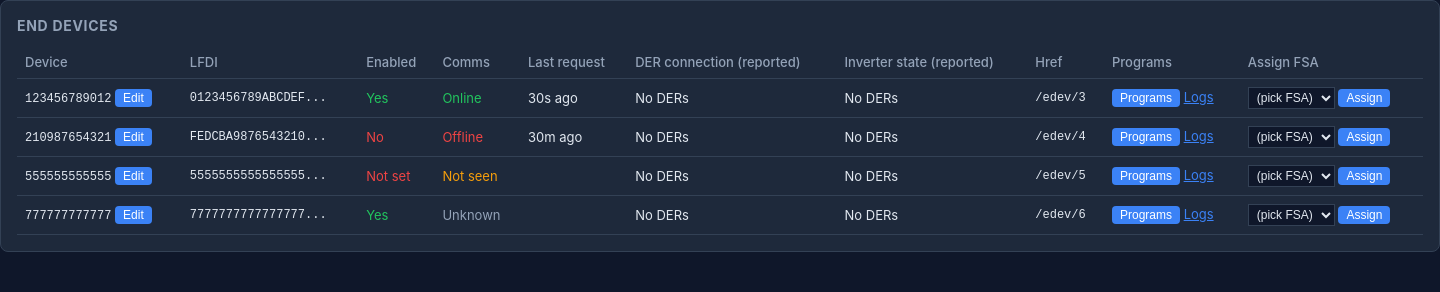
DeviceTable › surfaces an assignment failure instead of silently doing nothing
Select "fsa-a" in the dropdown with id "assignSel-3" at [1291, 98], box x1=1248 y1=87 x2=1335 y2=109
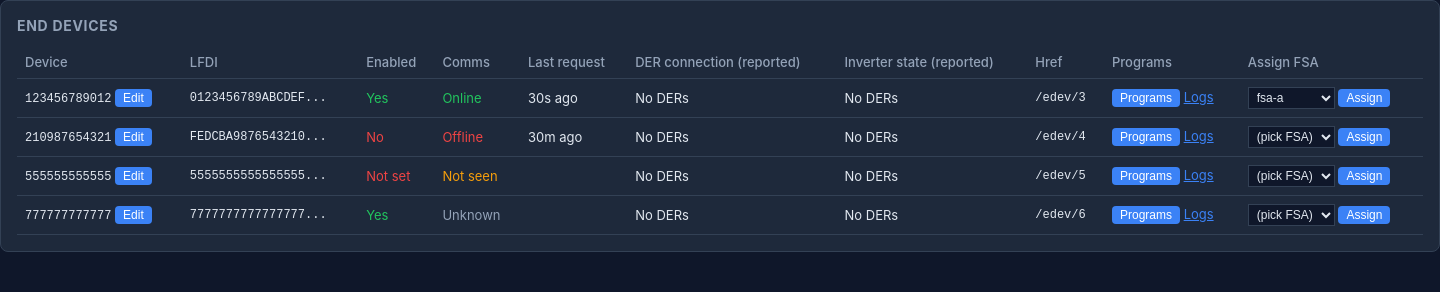
Click the button "Assign" in the row of "123456789012" at [1364, 98], box x1=1338 y1=89 x2=1390 y2=107
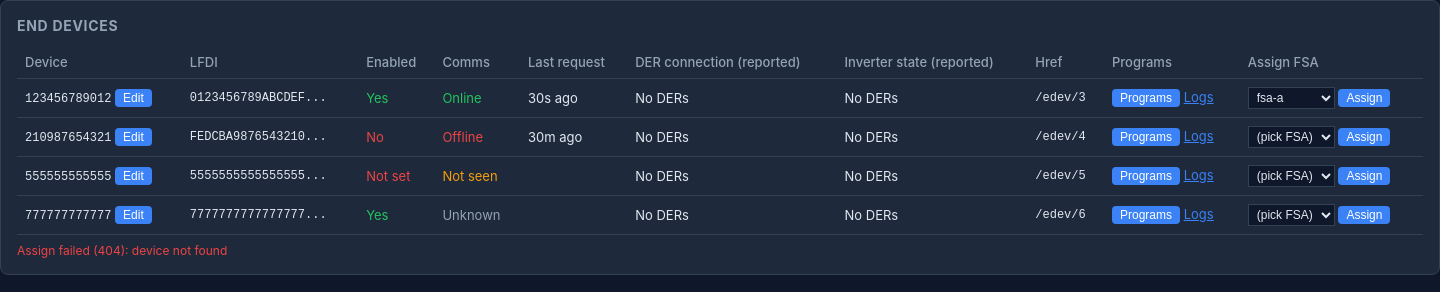
expect the text with test id "device-table-error" reads "Assign failed (404): device not found": met, box x1=17 y1=243 x2=227 y2=258
